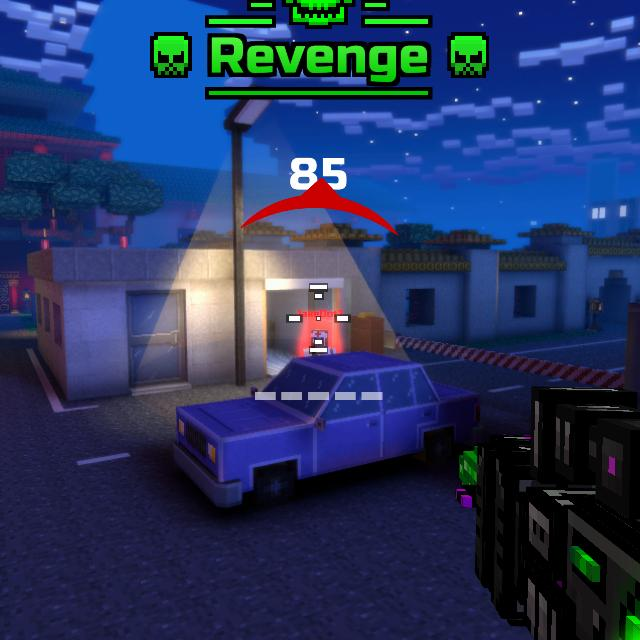Enemy: (302, 329, 336, 357)
